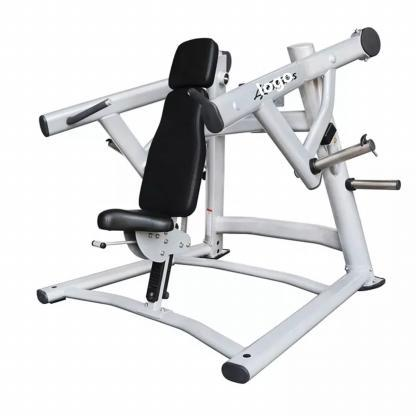shoulder press machine: (30, 12, 407, 387)
